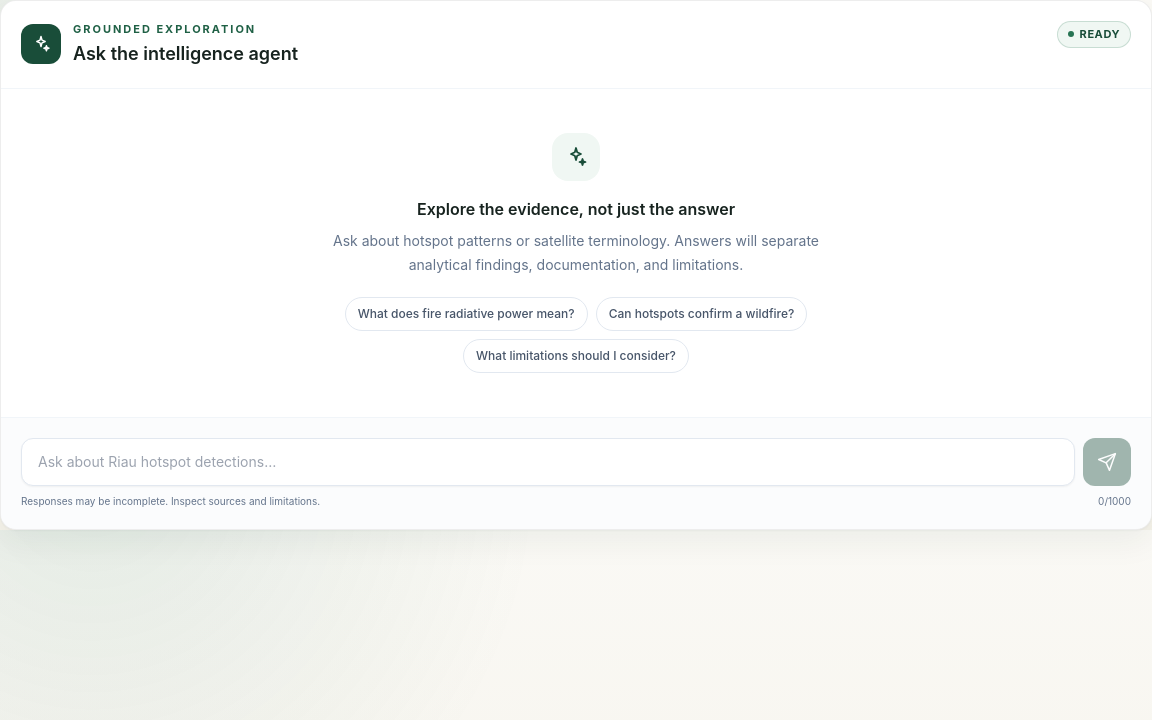
Test case: ChatPanel › renders source citations and fixture limitations
Type "What does FRP mean?" into the field named "Ask about wildfire hotspot data" at (548, 462), box [21,438,1075,486]
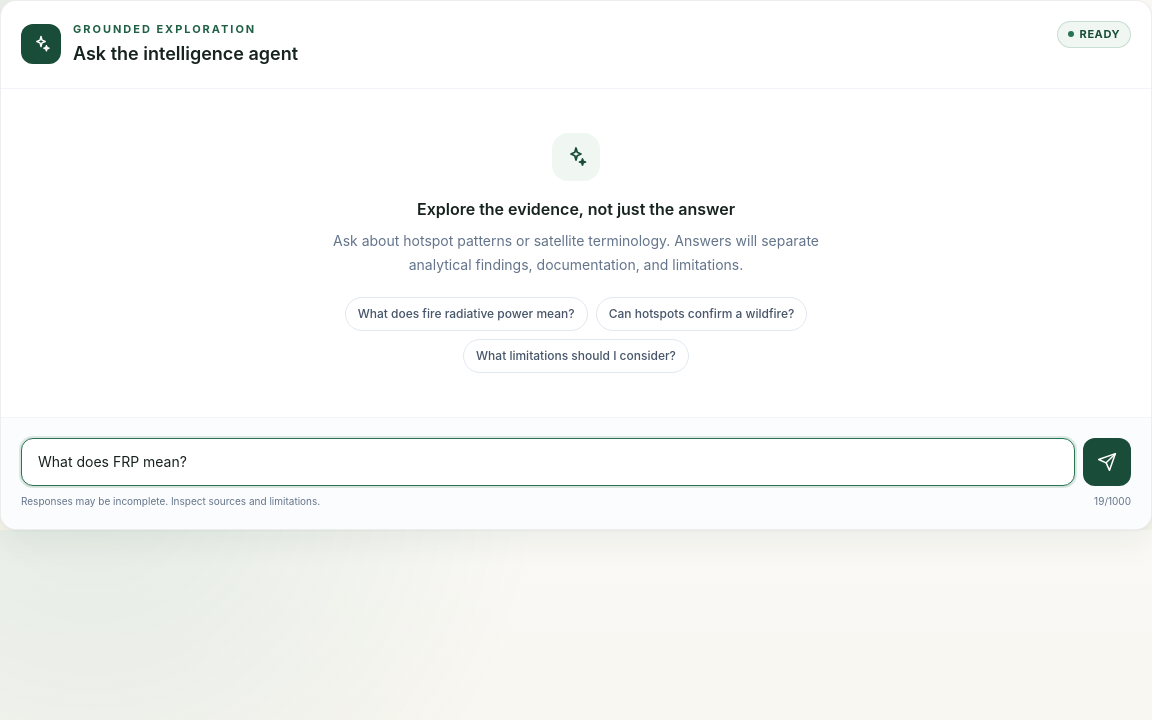
Click the button named "Send message" at (1107, 462), box [1083,438,1131,486]
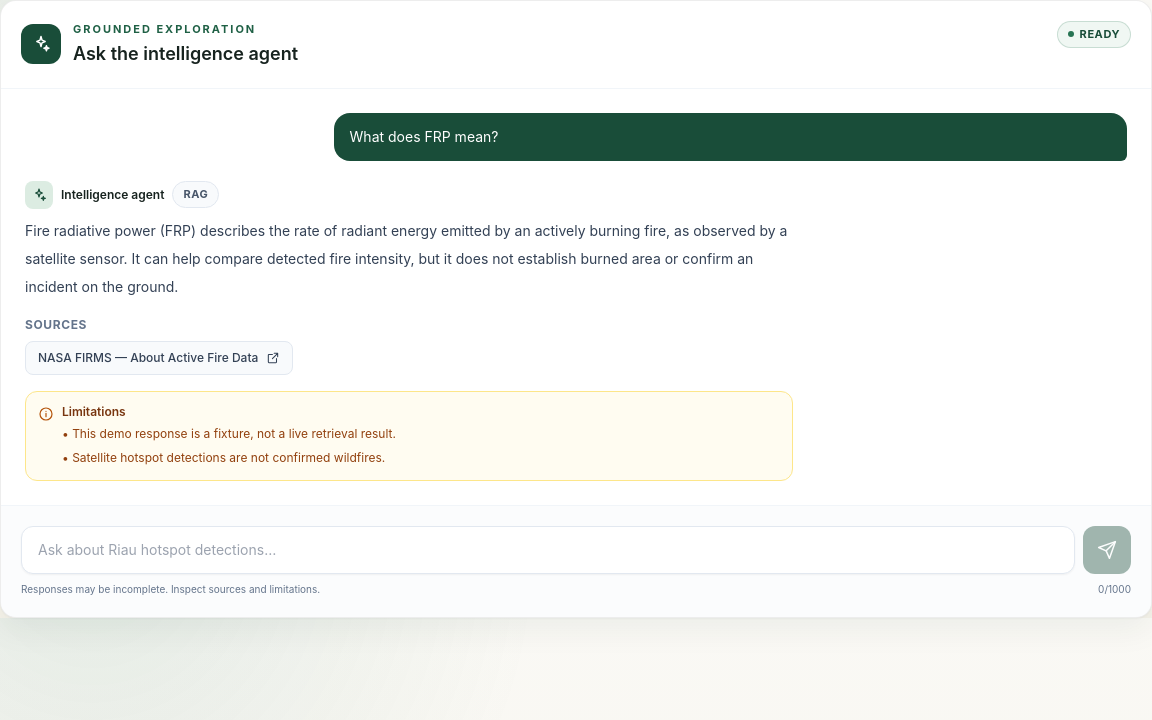
Expected: the link "NASA FIRMS — About Active Fire Data" is shown, [25,340,293,374]
Expected: the list item "This demo response is a fixture, not a live retrieval result" is shown, [72,426,396,440]
